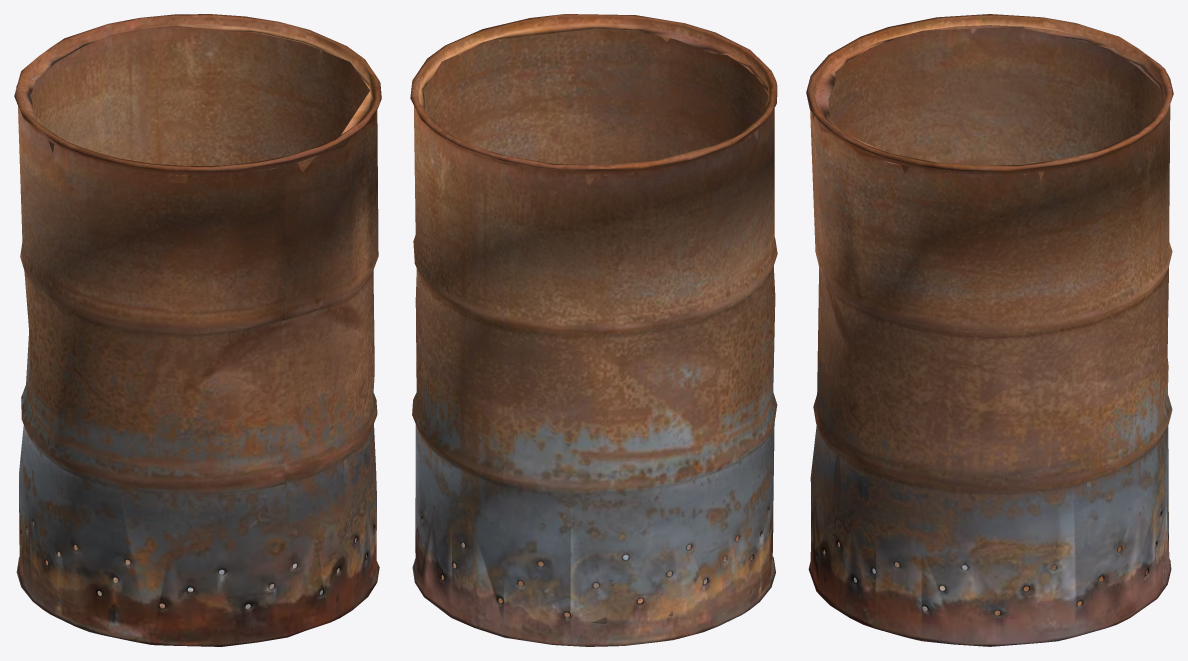
The model's file is barrel_stove.gltf.
3 renders of one model, left to right at view 1: azimuth 30°, elevation 25°; view 2: azimuth 150°, elevation 25°; view 3: azimuth 270°, elevation 25°, orthographic.
Visible parts, largest first — view 1: barrel_stove; view 2: barrel_stove; view 3: barrel_stove.
Part boxes in pixels (x1,y1,x2,y2): barrel_stove: (14,14,381,646); barrel_stove: (410,14,777,646); barrel_stove: (806,14,1173,646).
Size of the model in its own units: 0.5899 by 0.8556 by 0.5925.
Materials: 1 (1 with a texture image).
